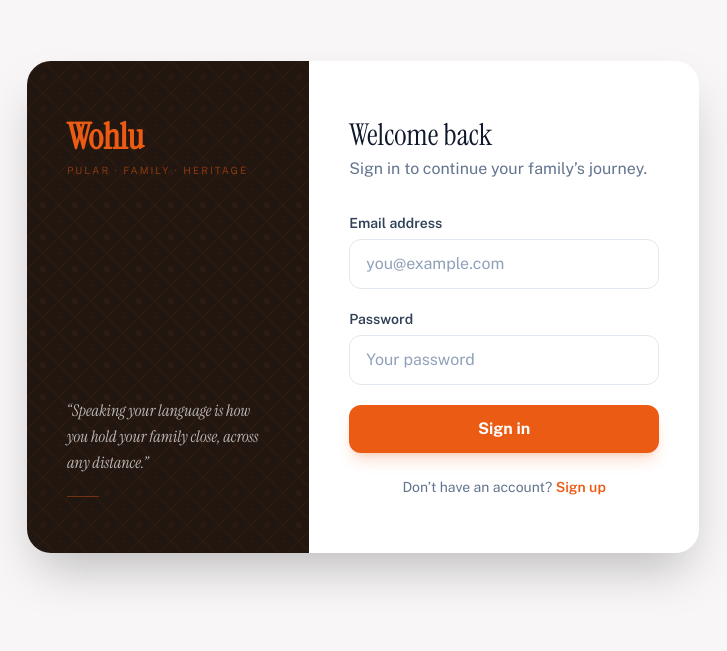
Test: LoginPage › shows error on failed sign-in
Type "bad@example.com" into the field labelled "Email address" at (504, 264), box [349, 239, 659, 289]
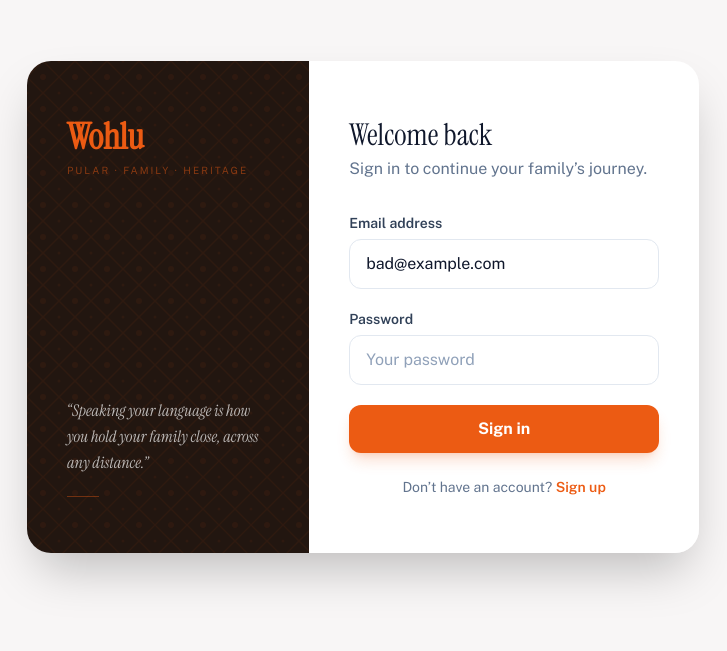
Type "wrongpass" into the password field labelled "Password" at (504, 360), box [349, 335, 659, 385]
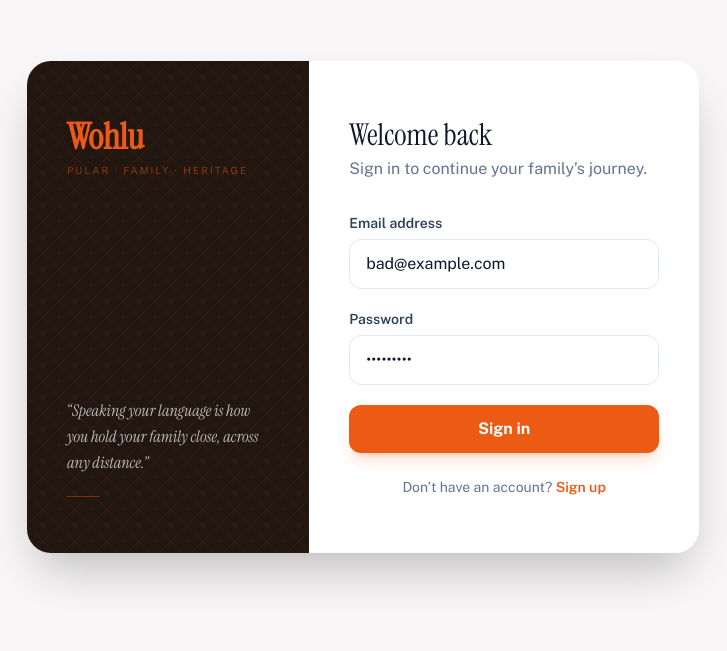
Click the button "Sign in" at (504, 429), box [349, 405, 659, 453]
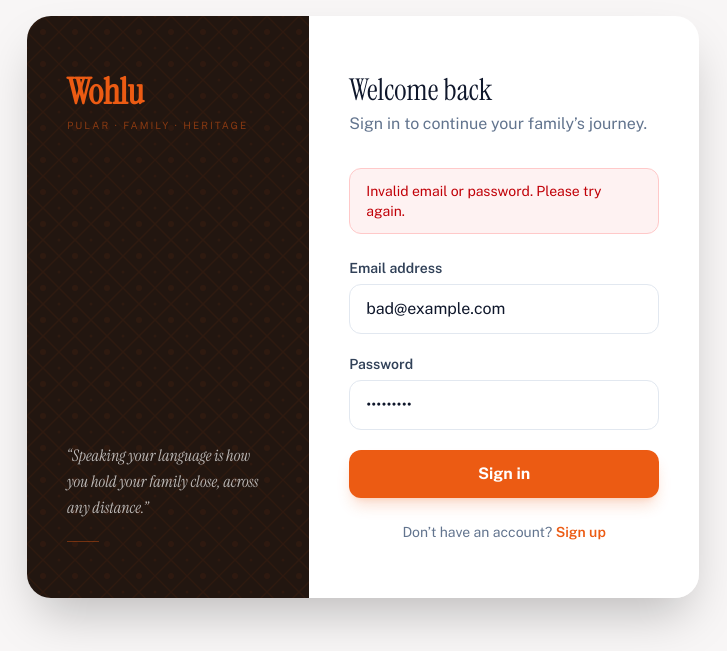
Now the text "Invalid email or password. Please try again." is shown, box [349, 168, 659, 234]
